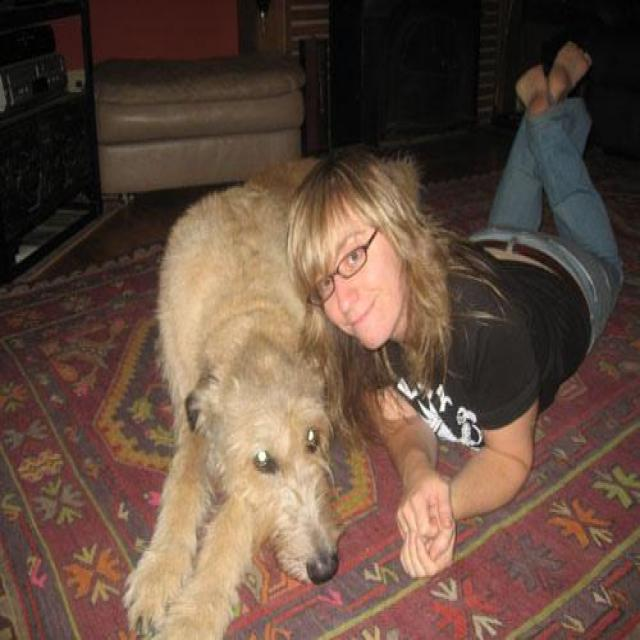irish_wolfhound: (121, 159, 342, 638)
